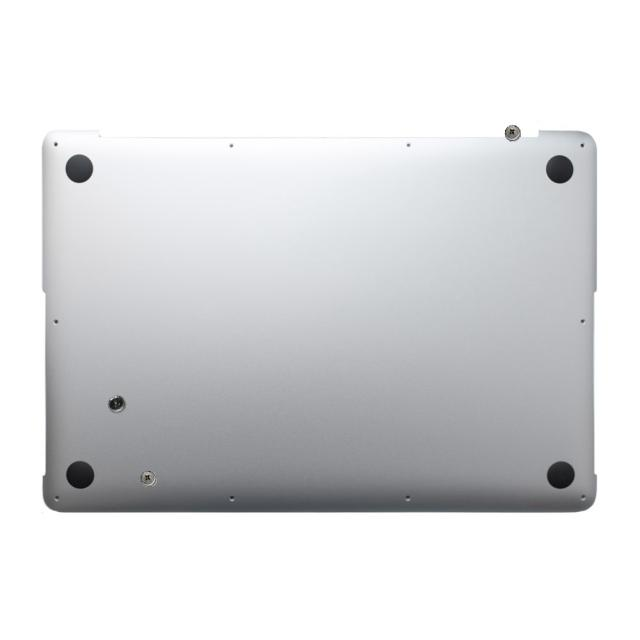lock: (108, 395, 125, 413), (140, 470, 157, 487), (504, 125, 521, 141)
